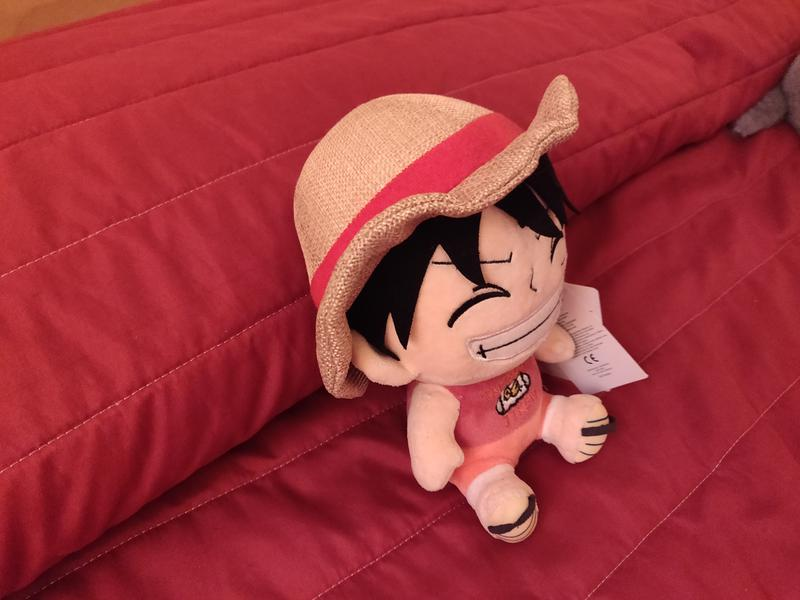rufy: (284, 74, 657, 548)
